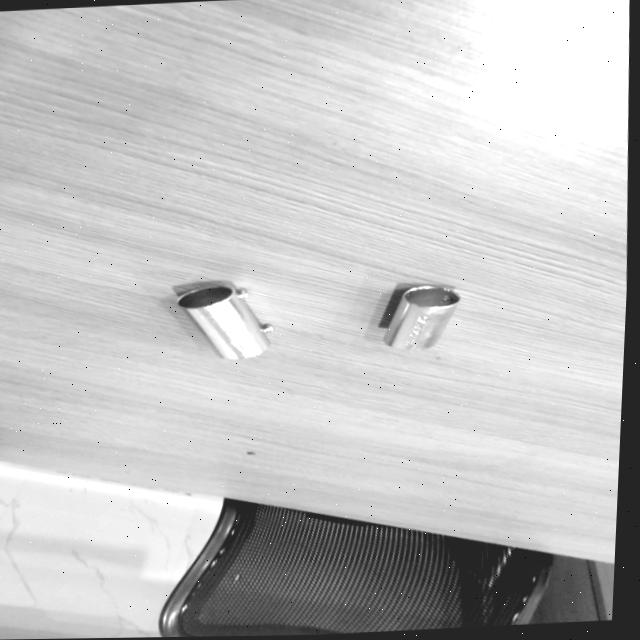Co_Lon: (174, 264, 277, 376)
Co_Nho: (381, 272, 462, 364)
